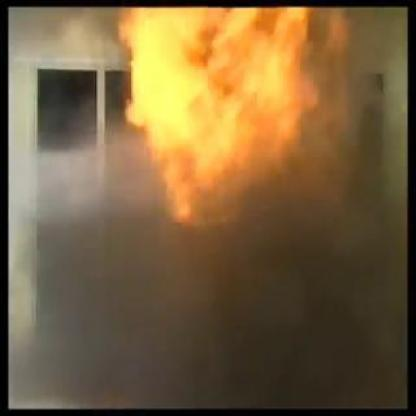Fire: (109, 7, 337, 236)
